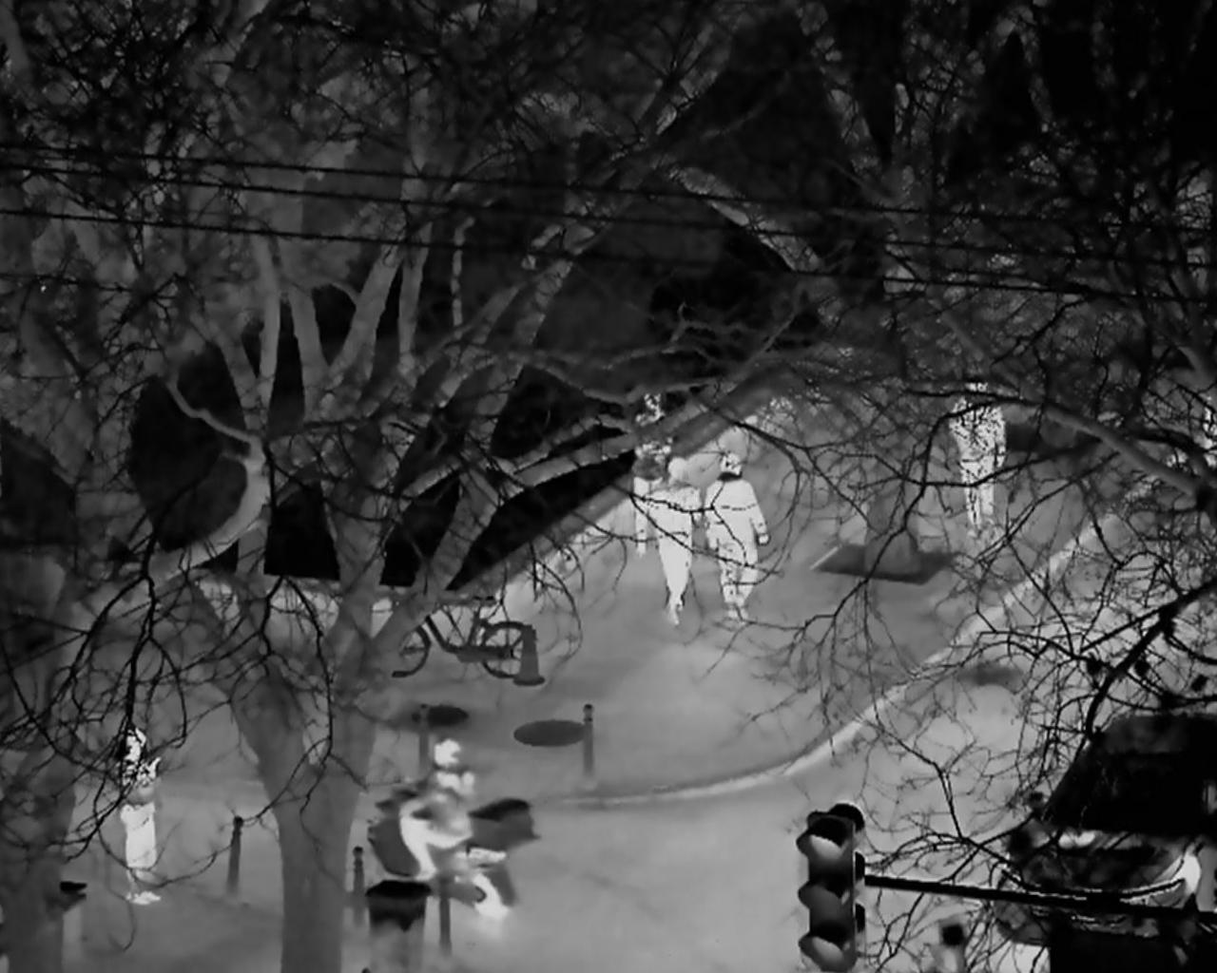person: (398, 737, 474, 883), (705, 452, 769, 625), (949, 381, 1010, 542), (647, 458, 700, 627), (116, 721, 161, 906)
